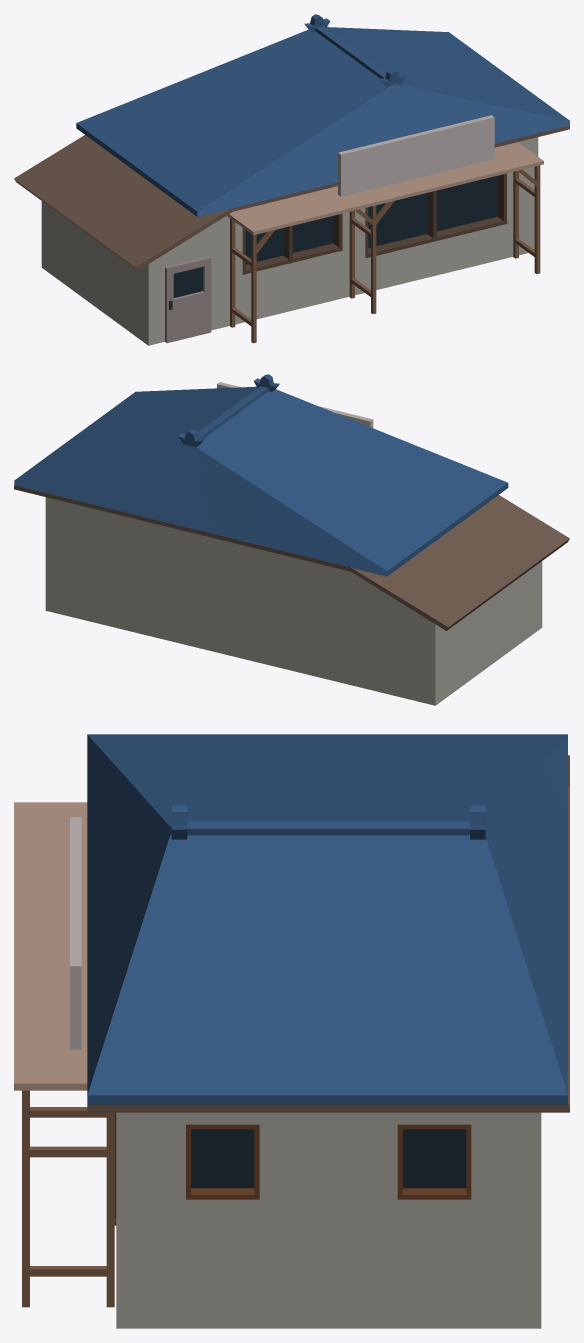
File: CountryStore03.fbx
3 renders of one model, top to bottom at view 1: azimuth 30°, elevation 25°; view 2: azimuth 150°, elevation 25°; view 3: azimuth 270°, elevation 25°, orthographic. The views are drawn at different scales.
Visible parts, largest first — view 1: CountryStore03; view 2: CountryStore03; view 3: CountryStore03.
Boxes of the visible parts, left/top/right/bottom form: CountryStore03: left=14, top=14, right=569, bottom=345; CountryStore03: left=14, top=374, right=569, bottom=705; CountryStore03: left=14, top=734, right=569, bottom=1328.
Bounding box in the file's own units: 186 × 104 × 82.03.
